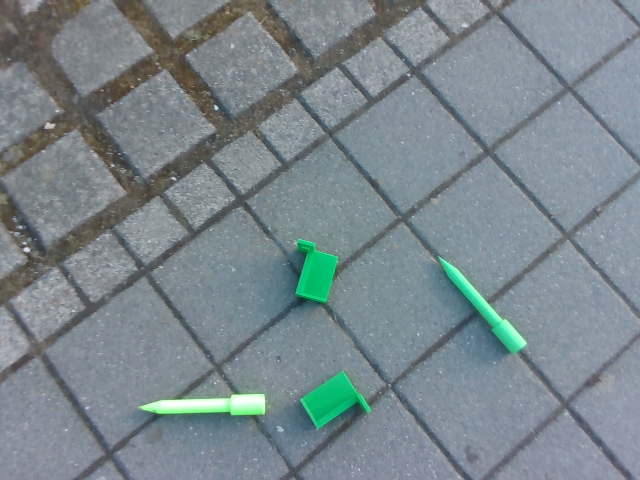Probe: (434, 249, 529, 360), (130, 391, 267, 418)
